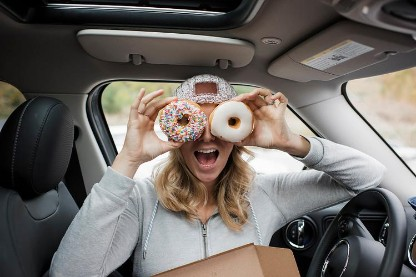张嘴: (190, 144, 220, 170)
